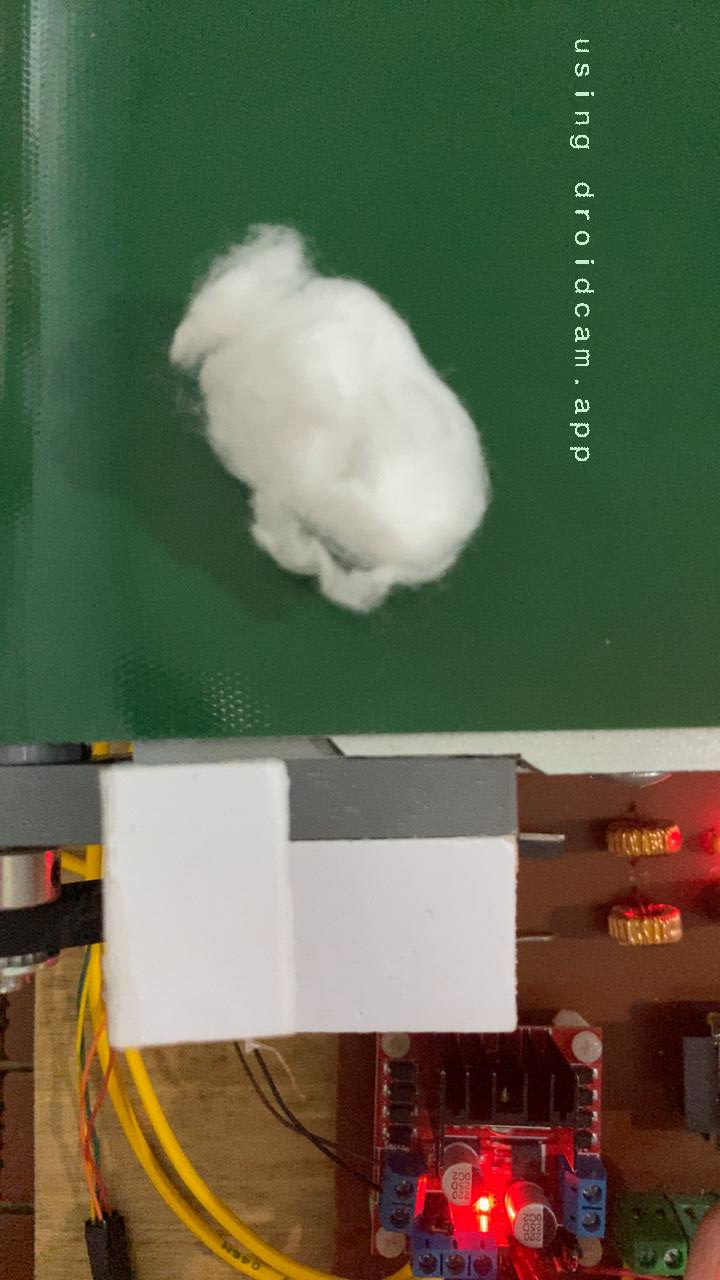cotton: (165, 220, 497, 619)
